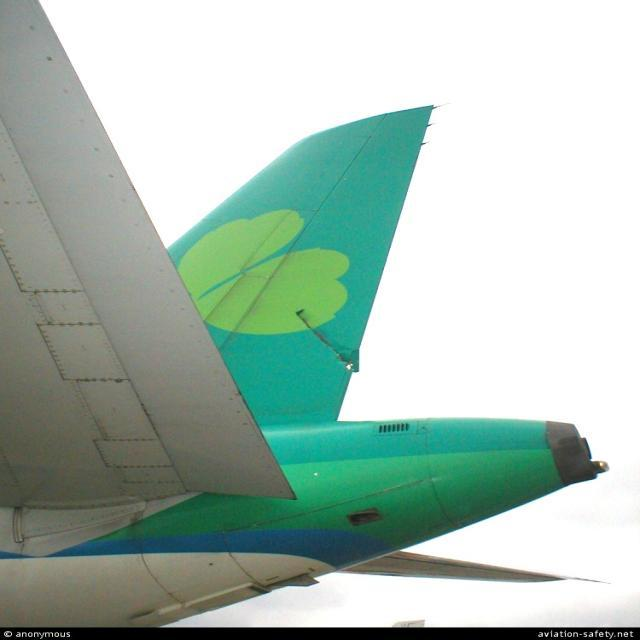crack: (291, 308, 360, 372)
